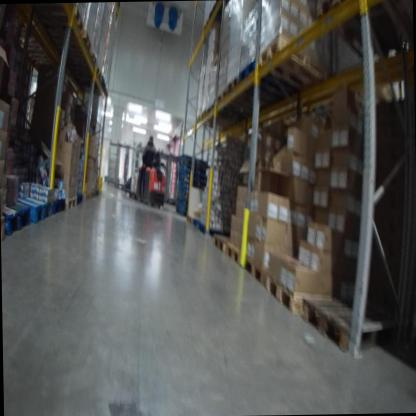pallet: (301, 295, 386, 356), (256, 32, 328, 98), (265, 273, 342, 315), (225, 69, 282, 116), (240, 56, 296, 99), (12, 181, 54, 230), (23, 4, 84, 35), (23, 28, 92, 54), (215, 85, 262, 123), (4, 193, 32, 238), (49, 46, 98, 68), (244, 250, 268, 290), (43, 189, 69, 224), (224, 237, 245, 267), (211, 236, 226, 252), (65, 194, 78, 209), (0, 209, 5, 241), (75, 191, 85, 204), (83, 187, 90, 202), (88, 188, 95, 200)
pallet_truck: (114, 124, 169, 209)
